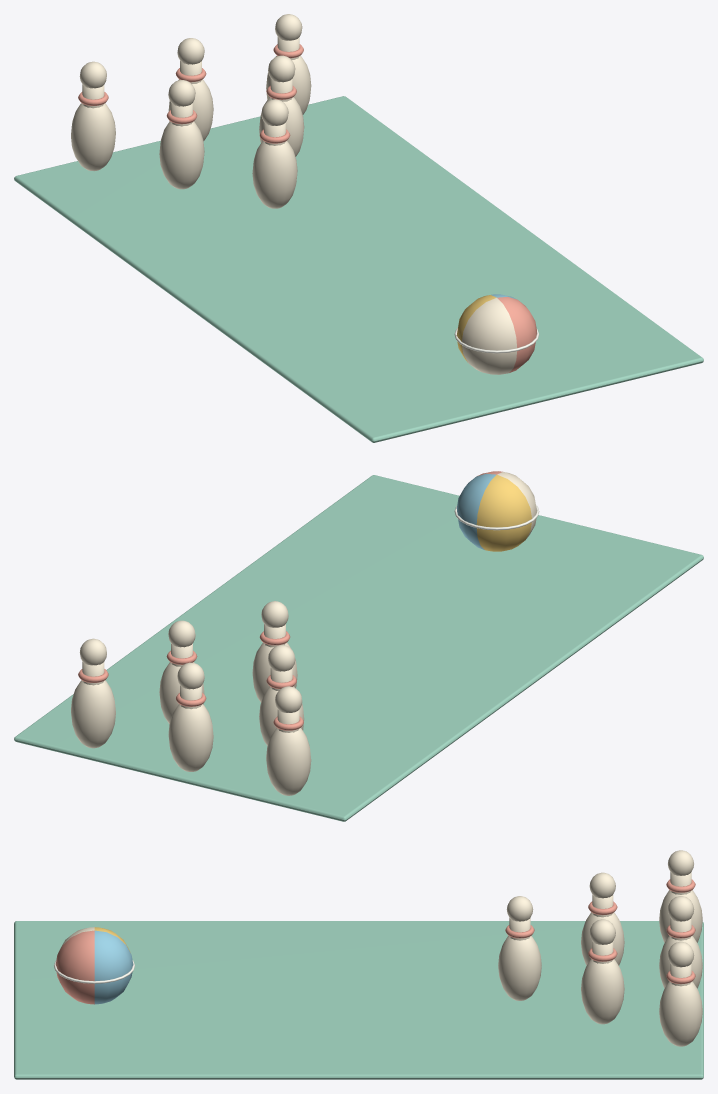
File: play-bowling.glb
The picture shows the model from 3 angles, top to bottom: view 1: azimuth 30°, elevation 25°; view 2: azimuth 150°, elevation 25°; view 3: azimuth 270°, elevation 25°; orthographic projection. The views are drawn at different scales.
Visible parts, largest first — view 1: Bowling mat, Ball surfaces, Pin3 surfaces, Pin1 surfaces, Pin0 surfaces, Pin4 surfaces, Pin2 surfaces, Pin5 surfaces; view 2: Bowling mat, Ball surfaces, Pin3 surfaces, Pin4 surfaces, Pin5 surfaces, Pin2 surfaces, Pin0 surfaces, Pin1 surfaces; view 3: Bowling mat, Ball surfaces, Pin2 surfaces, Pin0 surfaces, Pin5 surfaces, Pin1 surfaces, Pin3 surfaces, Pin4 surfaces.
Boxes of the visible parts, x1,y1,x2,y2 form: Bowling mat: (14,96,703,442); Ball surfaces: (454,294,539,374); Pin3 surfaces: (71,61,115,171); Pin1 surfaces: (159,80,204,189); Pin0 surfaces: (252,99,297,208); Pin4 surfaces: (168,38,213,140); Pin2 surfaces: (259,55,304,156); Pin5 surfaces: (266,14,311,114); Bowling mat: (14,475,703,821); Ball surfaces: (454,471,539,551); Pin3 surfaces: (266,686,311,795); Pin4 surfaces: (168,662,213,771); Pin5 surfaces: (71,638,115,748); Pin2 surfaces: (159,620,204,723); Pin0 surfaces: (252,601,297,702); Pin1 surfaces: (259,645,304,745); Bowling mat: (14,921,703,1079); Ball surfaces: (54,927,134,1004); Pin2 surfaces: (581,919,624,1024); Pin0 surfaces: (498,896,541,1000); Pin5 surfaces: (659,941,702,1046); Pin1 surfaces: (581,872,624,965); Pin3 surfaces: (659,850,702,942); Pin4 surfaces: (659,896,702,988).
Bounding box in the file's own units: 1.6 × 0.5075 × 3.
